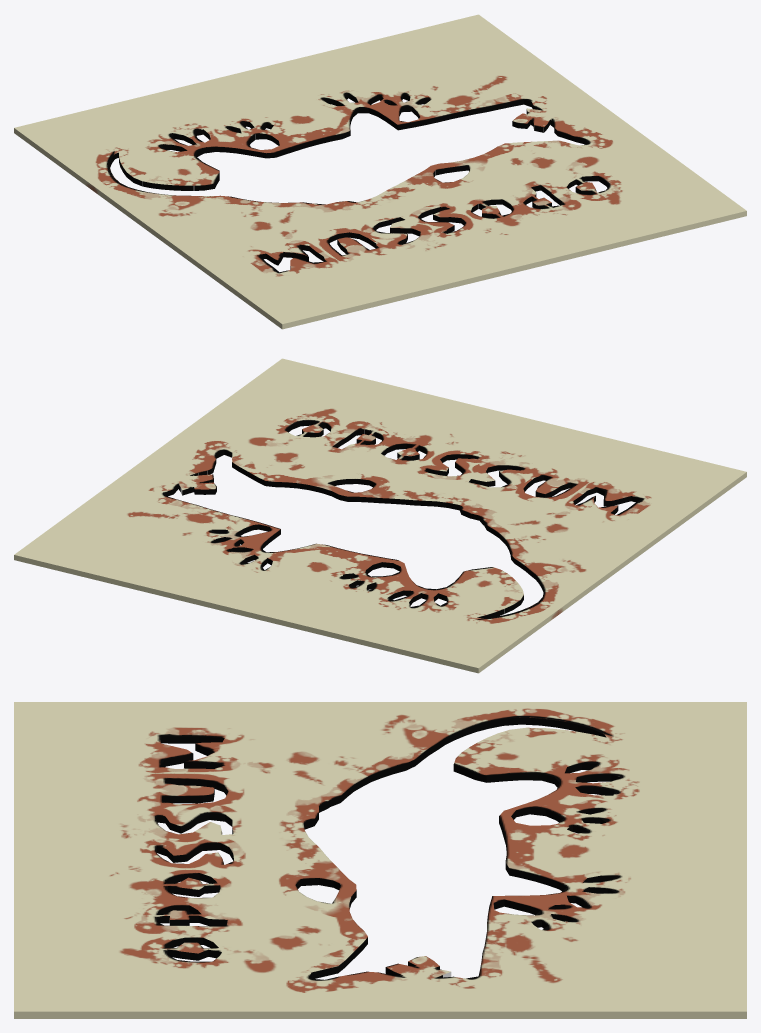
The model's file is Stencil_holecut_GLITCH.fbx.
The picture shows the model from 3 angles, top to bottom: view 1: azimuth 30°, elevation 25°; view 2: azimuth 150°, elevation 25°; view 3: azimuth 270°, elevation 25°; orthographic projection. The views are drawn at different scales.
Visible parts, largest first — view 1: Stencil_Hole1; view 2: Stencil_Hole1; view 3: Stencil_Hole1.
Boxes of the visible parts, <box> form: Stencil_Hole1: <box>14,14,746,329</box>; Stencil_Hole1: <box>14,358,746,673</box>; Stencil_Hole1: <box>14,702,746,1018</box>.
Size of the model in its own units: 0.9153 by 0.00987 by 0.9153.
5 materials, 1 textured.
